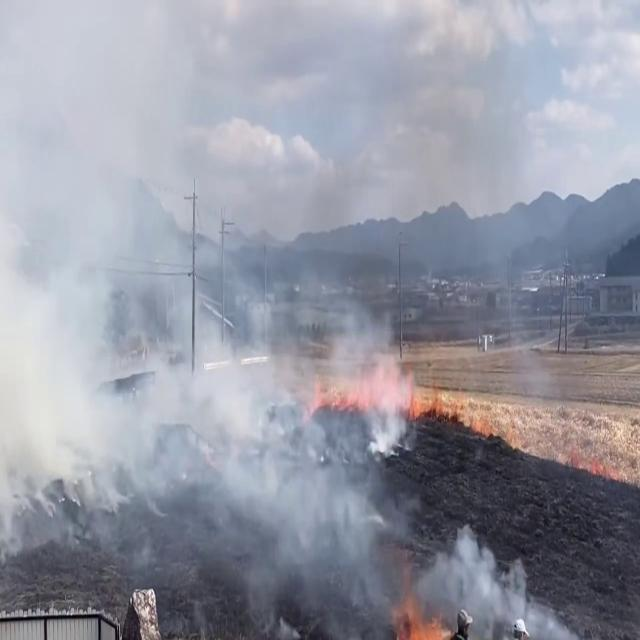Fire: (394, 585, 452, 640)
Smoke: (0, 94, 418, 620), (441, 519, 583, 639)
